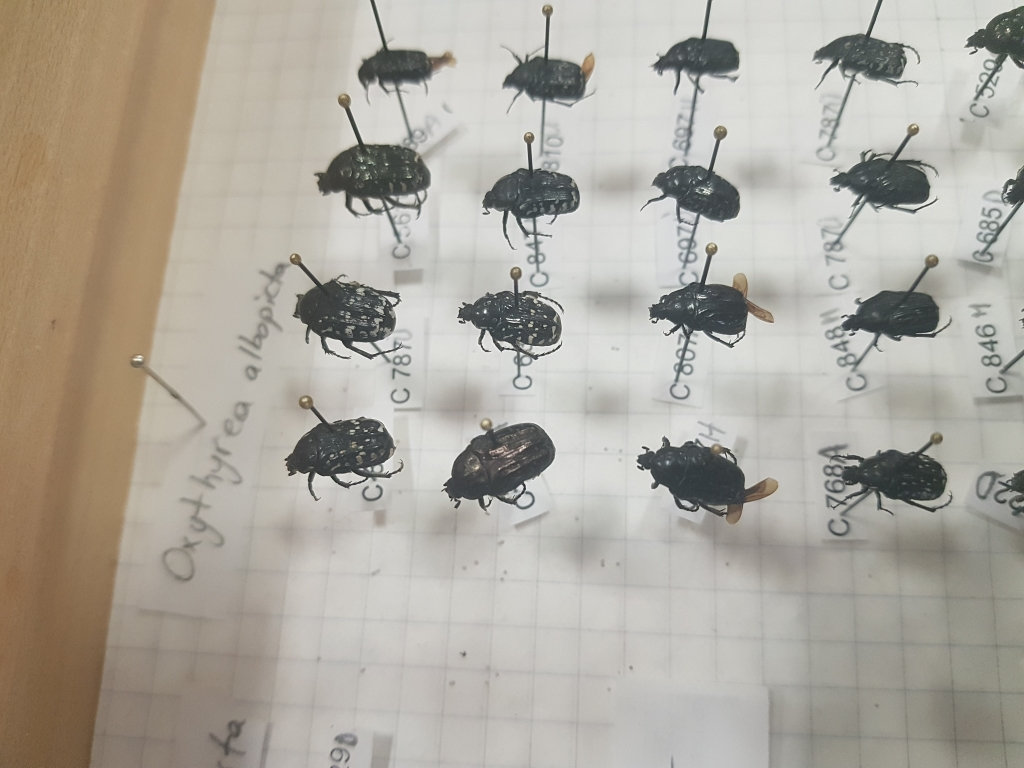Oxythyrea_albopicta: (278, 271, 409, 368), (453, 287, 567, 363)
